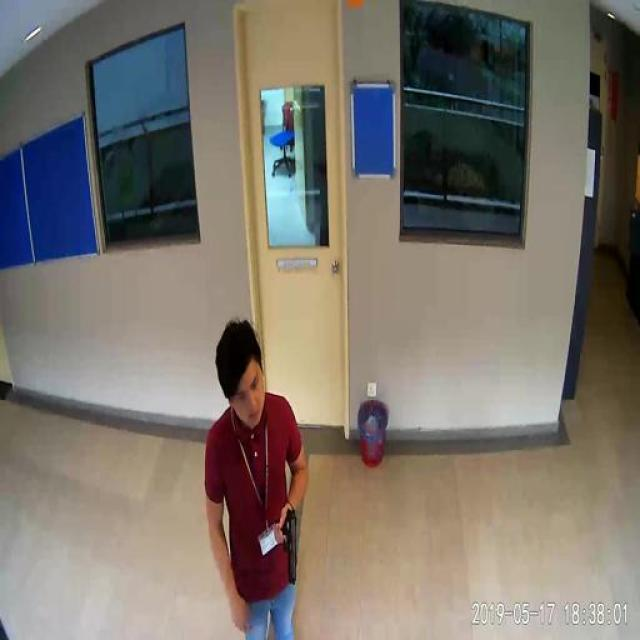Gun: (272, 508, 303, 588)
